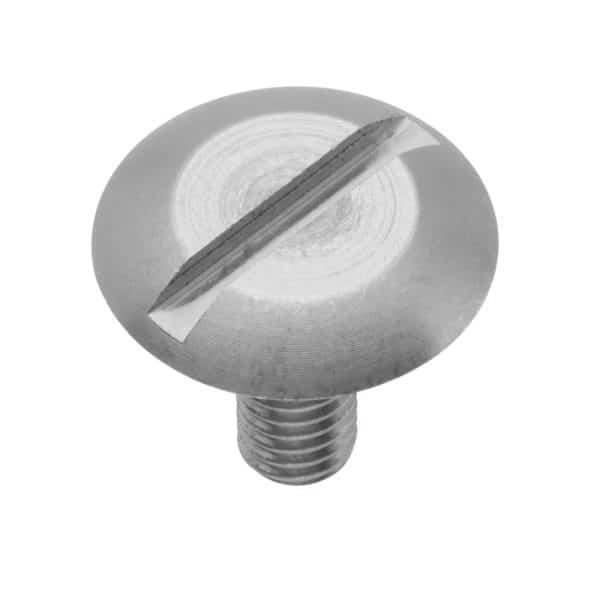slotted: (92, 82, 502, 398)
